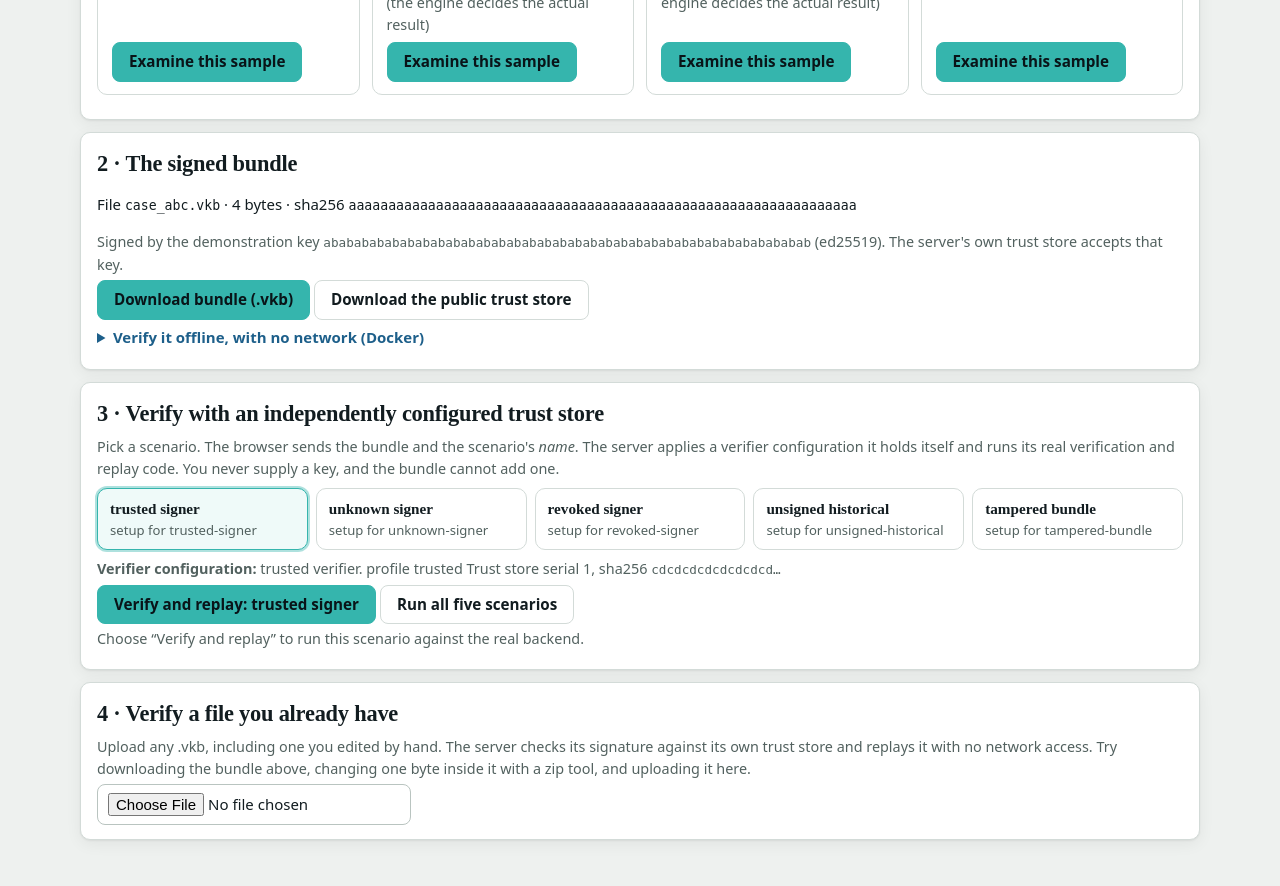
Test: VerifyLab › sends only the scenario name and the downloaded bundle bytes, then shows six separate results
This screenshot has width=1280, height=886.
(page scrolled)
Expected: the element with test id "bundle-card" shows "case_abc.vkb", x1=125 y1=198 x2=220 y2=213
Click the button "tampered bundle setup for tampered-bundle" at (1078, 519), box x1=972 y1=488 x2=1183 y2=550
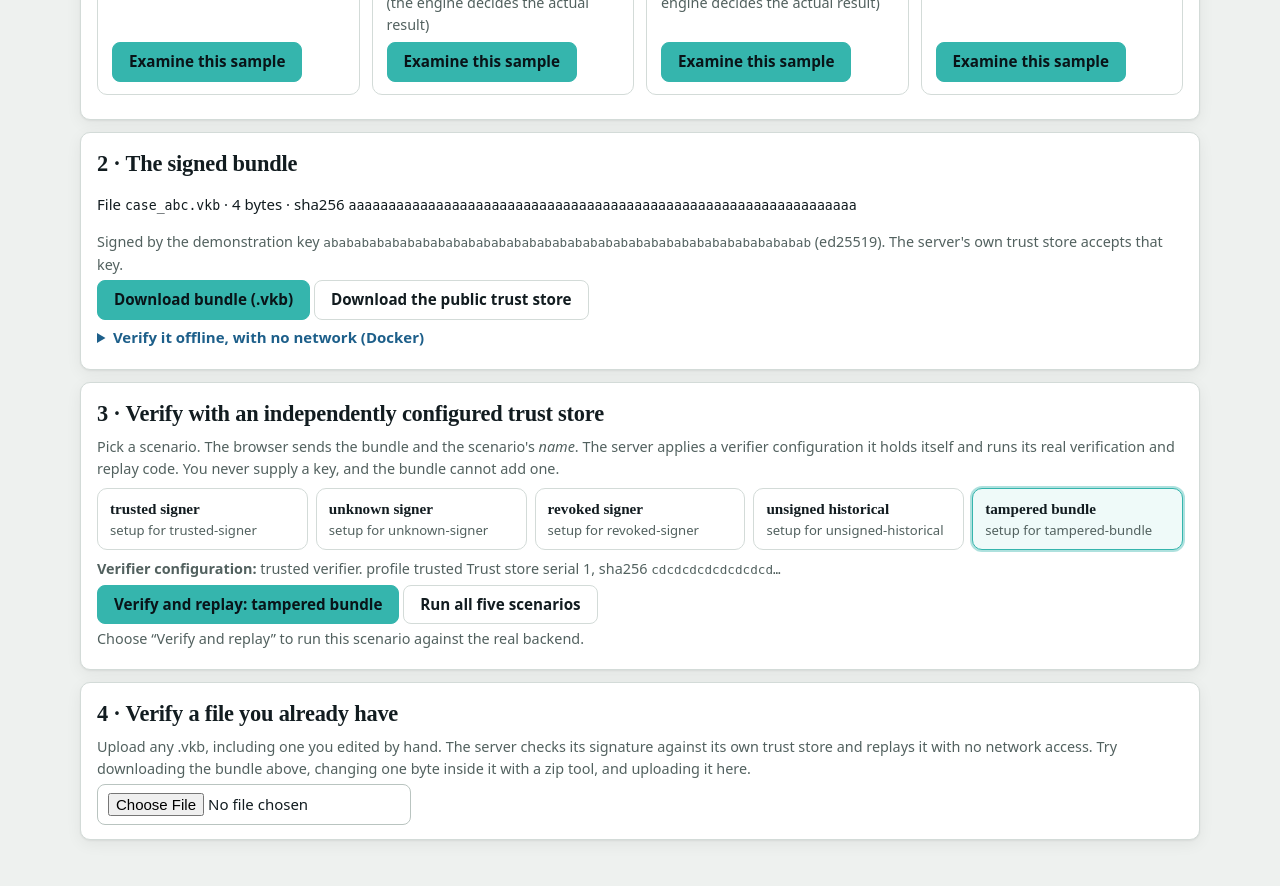
Click the button with test id "verify-button" at (248, 604), box x1=97 y1=585 x2=399 y2=624
(page scrolled)
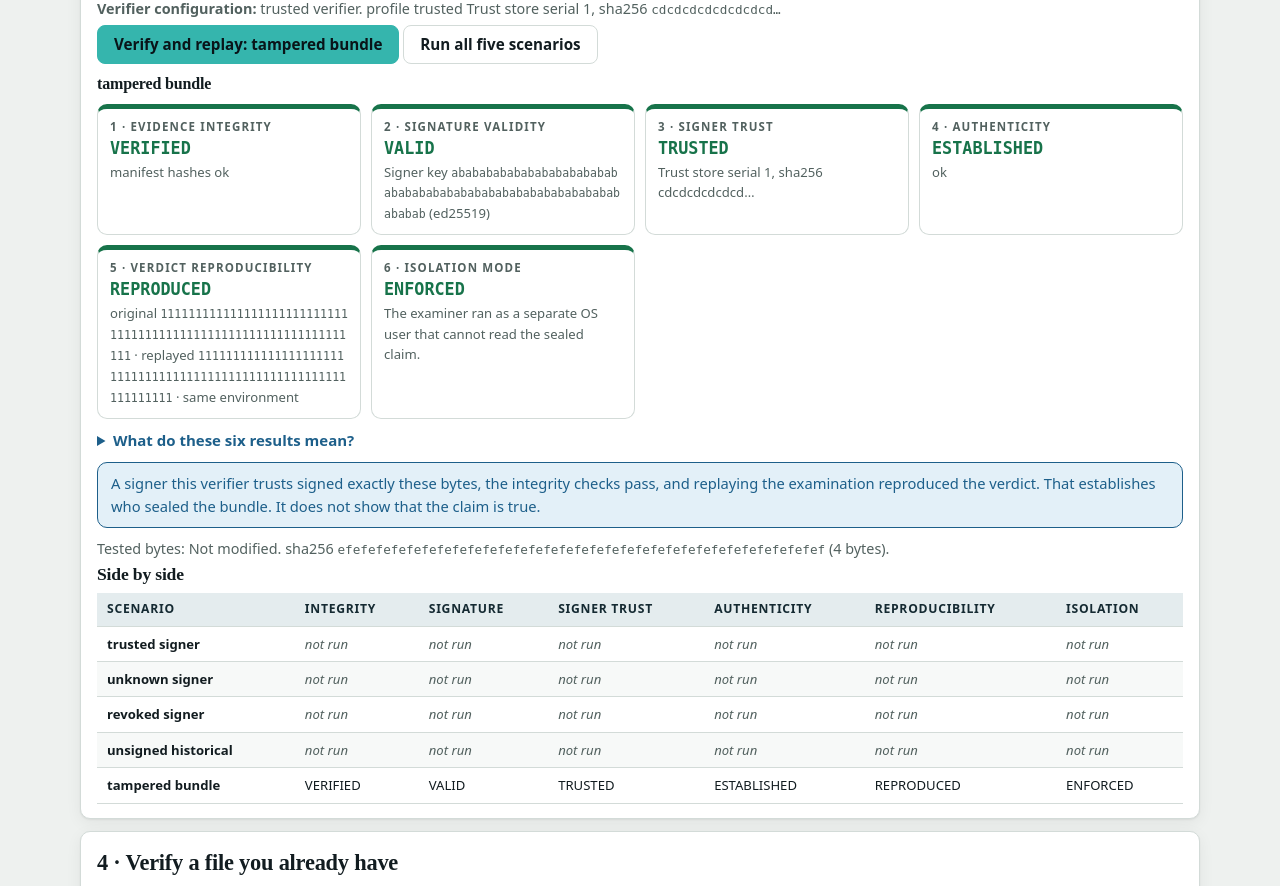
Now the element with test id "lab-result" is shown, box x1=97 y1=74 x2=1183 y2=560
Now the text "VERIFIED" is shown 6 times, box x1=110 y1=138 x2=191 y2=158; x1=384 y1=138 x2=434 y2=158; x1=658 y1=138 x2=729 y2=158; x1=932 y1=138 x2=1043 y2=158; x1=110 y1=279 x2=211 y2=299; x1=384 y1=279 x2=465 y2=299
Now the row with test id "matrix-row-tampered-bundle" is shown, box x1=97 y1=768 x2=1183 y2=803
